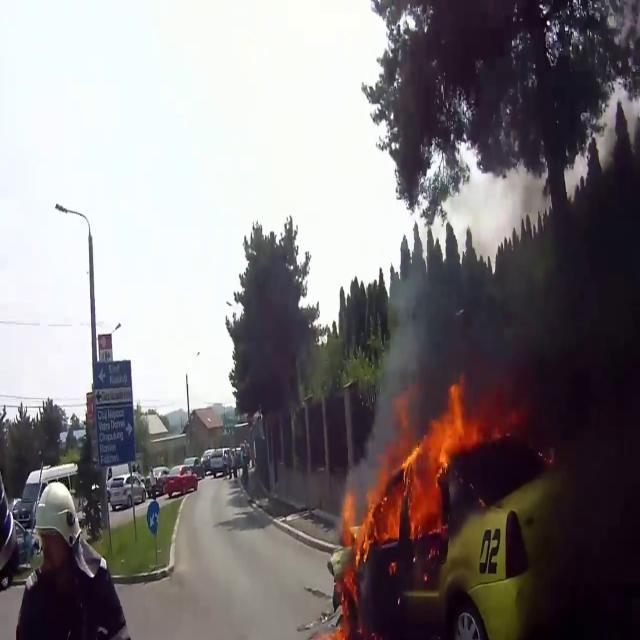Fire: (332, 378, 476, 576)
Smoke: (380, 116, 640, 428)
